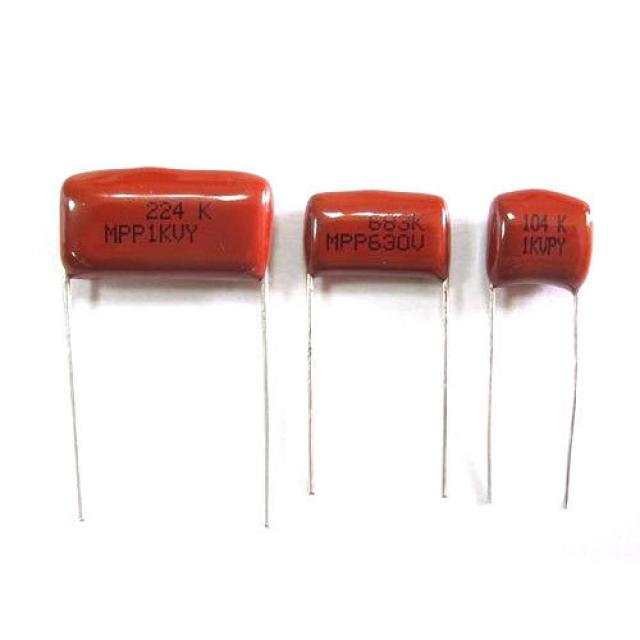Capacitor: (304, 190, 450, 497)
capacitor: (60, 168, 274, 527), (486, 191, 591, 507)
